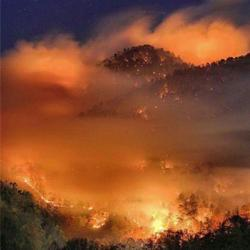fire: (146, 201, 168, 234)
